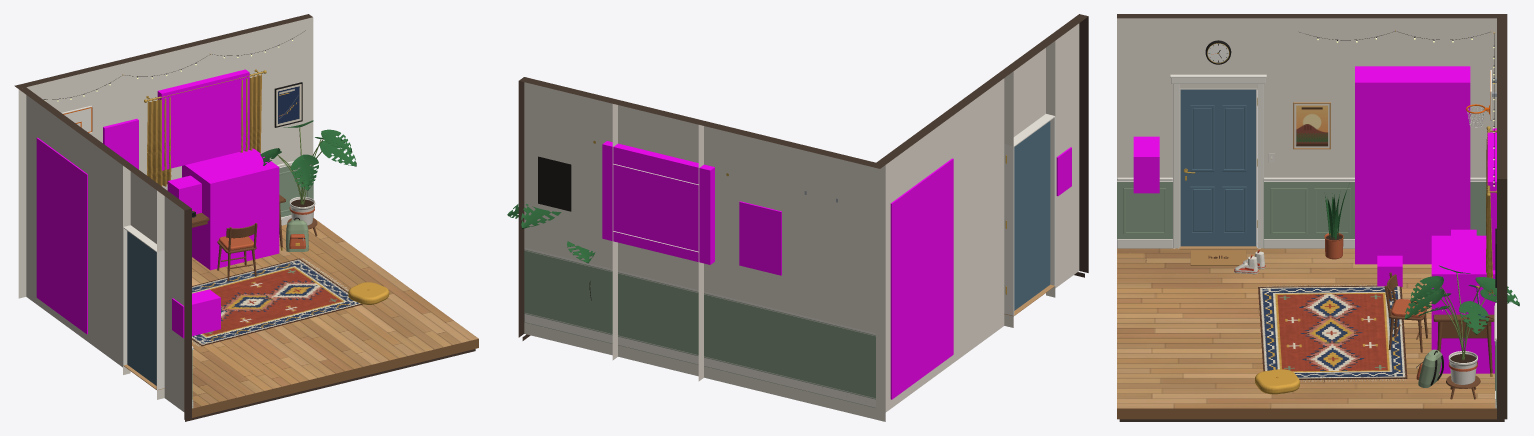
File: room.45f568bec2.glb
3 renders of one model, left to right at view 1: azimuth 30°, elevation 25°; view 2: azimuth 150°, elevation 25°; view 3: azimuth 270°, elevation 25°, orthographic. The views are drawn at different scales.
Visible parts, largest first — view 1: decor__floor, decor__wall_left__01, decor__wall_back__01, hit__shelf, hit__computer, decor__rug__02, hit__window, decor__door__03, decor__wall_left__02, decor__curtains__02, decor__floor_edge__01, decor__door__04 (+12 smaller); view 2: decor__wall_back__01, decor__wall_left__01, decor__wainscot__02, hit__shelf, hit__window, decor__door__03, decor__wainscot__01, decor__wall_left__02, decor__wall_back__02, decor__door__04, hit__letter, decor__posters__01 (+2 smaller); view 3: decor__wall_left__01, decor__floor, hit__shelf, decor__rug__02, decor__door__03, decor__wainscot__02, hit__computer, decor__floor_edge__01, decor__wall_back__02, decor__door__04, decor__plants__02, decor__wainscot__01 (+17 smaller).
Part boxes in pixels (x1=…): decor__floor: x1=192, y1=218, x2=478, y2=408; decor__wall_left__01: x1=26, y1=95, x2=184, y2=411; decor__wall_back__01: x1=18, y1=17, x2=313, y2=298; hit__shelf: x1=36, y1=137, x2=87, y2=334; hit__computer: x1=182, y1=148, x2=279, y2=270; decor__rug__02: x1=192, y1=258, x2=362, y2=346; hit__window: x1=157, y1=69, x2=249, y2=170; decor__door__03: x1=127, y1=231, x2=156, y2=385; decor__wall_left__02: x1=19, y1=87, x2=191, y2=419; decor__curtains__02: x1=146, y1=74, x2=261, y2=186; decor__floor_edge__01: x1=192, y1=338, x2=478, y2=417; decor__door__04: x1=123, y1=225, x2=164, y2=389; decor__wall_back__01: x1=524, y1=82, x2=885, y2=421; decor__wall_left__01: x1=885, y1=23, x2=1079, y2=412; decor__wainscot__02: x1=524, y1=249, x2=875, y2=407; hit__shelf: x1=890, y1=158, x2=953, y2=399; hit__window: x1=602, y1=141, x2=714, y2=264; decor__door__03: x1=1014, y1=121, x2=1050, y2=310; decor__wainscot__01: x1=524, y1=248, x2=875, y2=407; decor__wall_left__02: x1=876, y1=14, x2=1088, y2=272; decor__wall_back__02: x1=518, y1=77, x2=884, y2=337; decor__door__04: x1=1004, y1=114, x2=1055, y2=316; hit__letter: x1=739, y1=201, x2=781, y2=275; decor__posters__01: x1=538, y1=156, x2=571, y2=211; decor__wall_left__01: x1=1117, y1=18, x2=1496, y2=178; decor__floor: x1=1117, y1=248, x2=1495, y2=408; hit__shelf: x1=1355, y1=66, x2=1470, y2=264; decor__rug__02: x1=1258, y1=285, x2=1407, y2=379; decor__door__03: x1=1180, y1=89, x2=1255, y2=246; decor__wainscot__02: x1=1117, y1=182, x2=1496, y2=408; hit__computer: x1=1431, y1=235, x2=1495, y2=373; decor__floor_edge__01: x1=1117, y1=408, x2=1496, y2=419; decor__wall_back__02: x1=1497, y1=14, x2=1507, y2=419; decor__door__04: x1=1170, y1=74, x2=1266, y2=248; decor__plants__02: x1=1325, y1=183, x2=1519, y2=334; decor__wainscot__01: x1=1117, y1=177, x2=1496, y2=408.
Size of the model in its own units: 4.98 by 3.19 by 4.77.
Materials: 76 (7 with a texture image).
